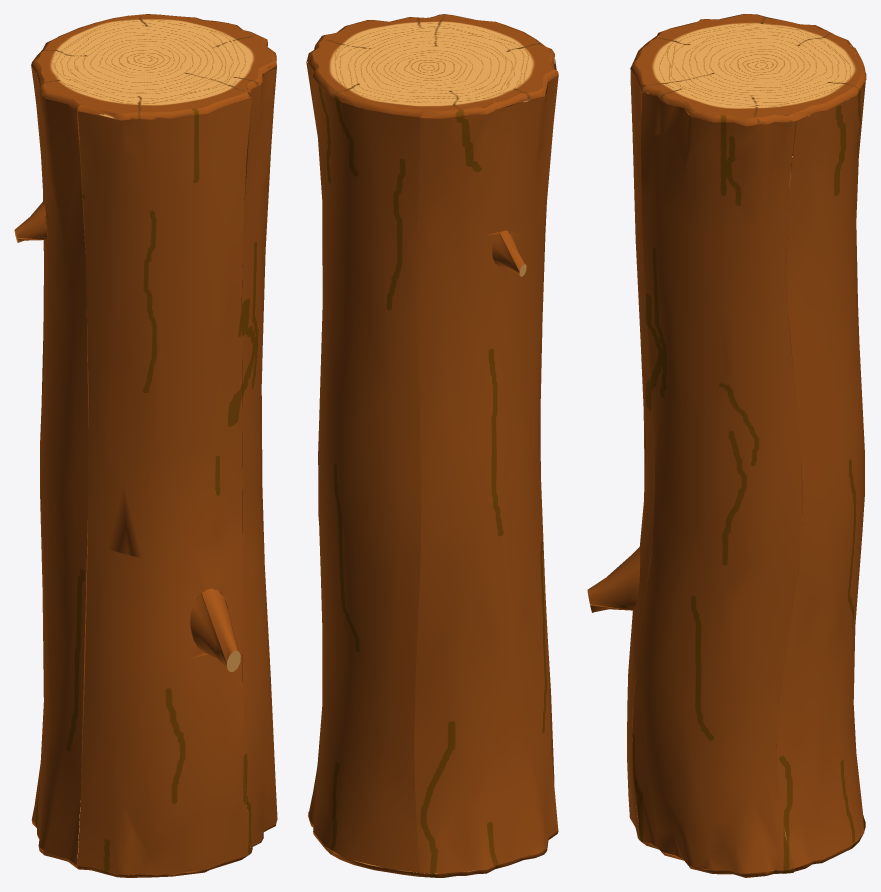
File: 통나무.fbx
3 renders of one model, left to right at view 1: azimuth 30°, elevation 25°; view 2: azimuth 150°, elevation 25°; view 3: azimuth 270°, elevation 25°, orthographic.
Parts seen in each view (by area): view 1: mesh_0; view 2: mesh_0; view 3: mesh_0.
Part boxes in pixels (box(x1,y1,x2,y2)): mesh_0: box(14, 14, 277, 877); mesh_0: box(306, 14, 558, 877); mesh_0: box(587, 14, 866, 877).
Bounding box in the file's own units: 5463 × 17478 × 5816.
1 material, 1 textured.
